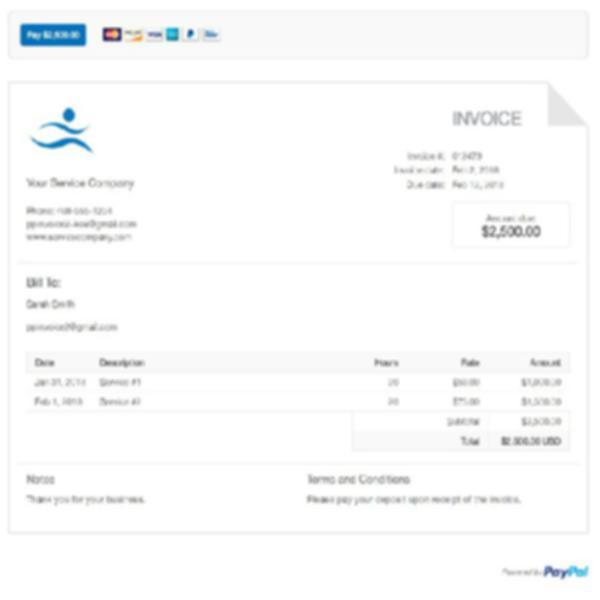test: (31, 107, 92, 152)
